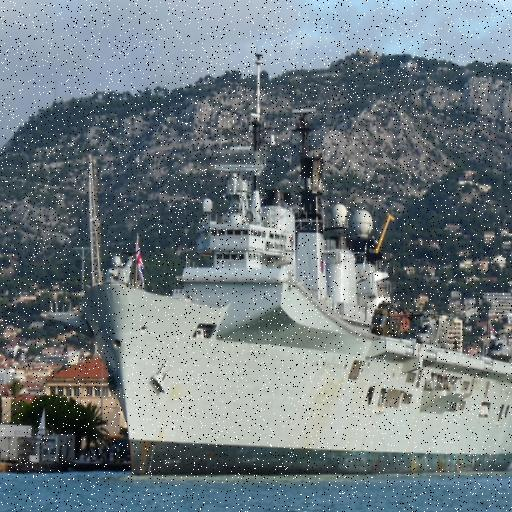Portanaves: (37, 51, 512, 481)
